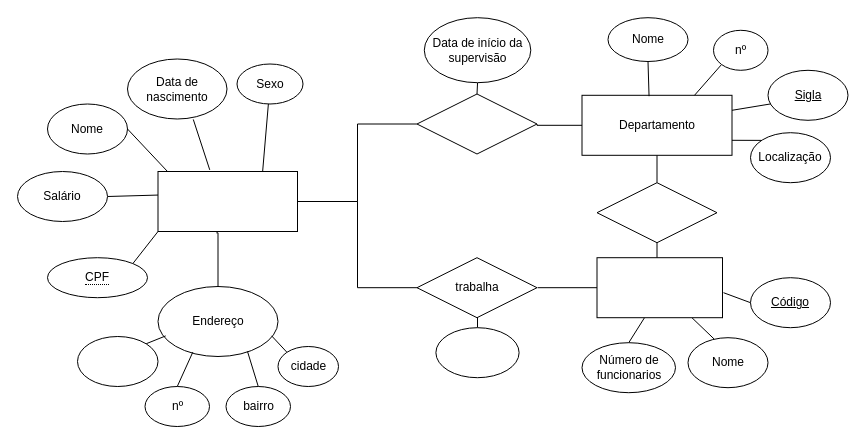
The diagram is 866 pixels wide and 444 high, and some of its shapes have lost their labels. Each missing label, with the centre of its shape:
Associação: the point at 656,212
Funcionário: the point at 227,201
Horas dedicadas: the point at 477,352
logradouro: the point at 117,361
Projeto: the point at 659,287
Supervisiona: the point at 476,123
